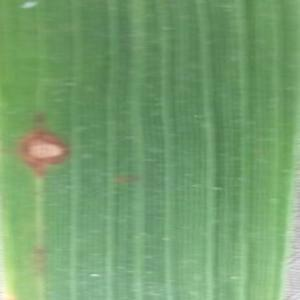1 RiceBlast: (10, 106, 99, 200)
